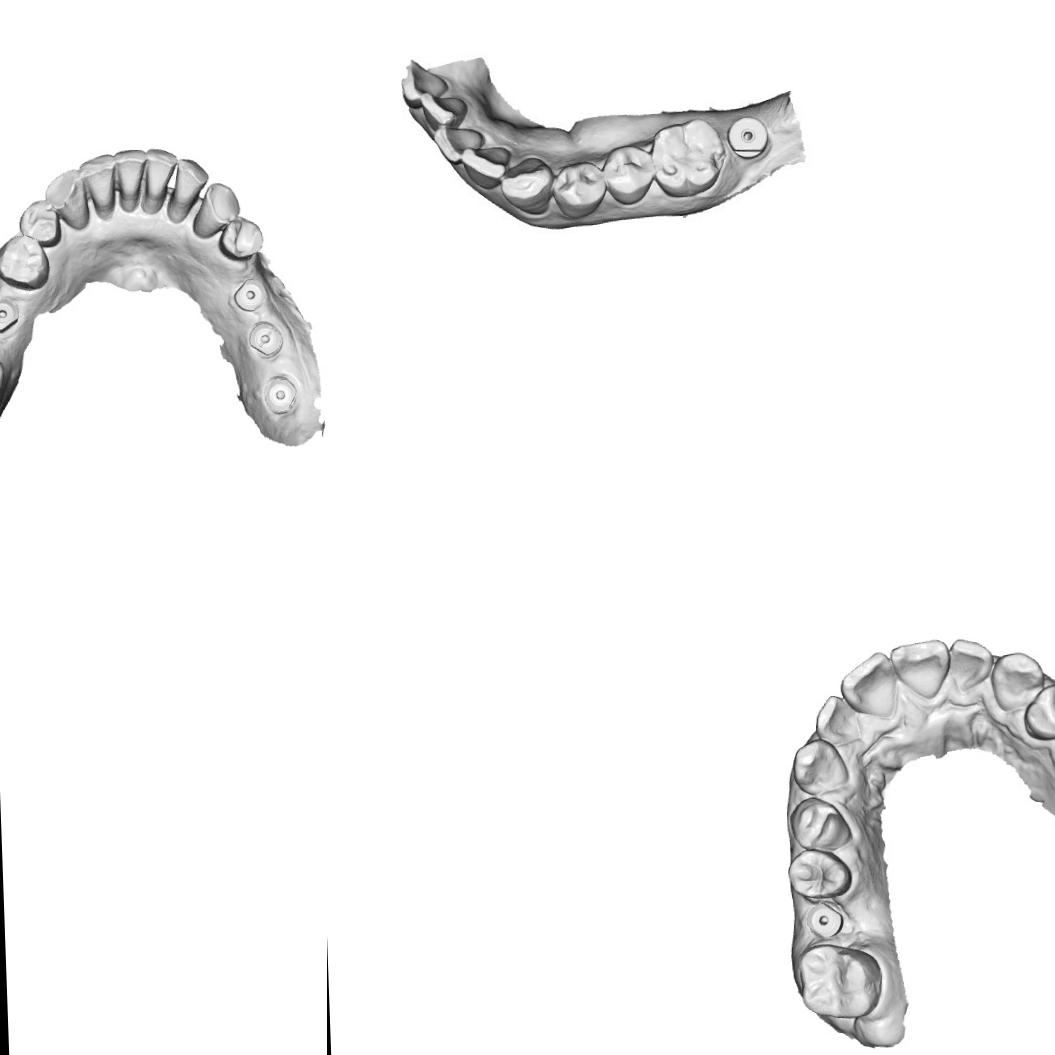canine: (987, 648, 1046, 715), (789, 737, 851, 797), (41, 167, 91, 232), (190, 180, 243, 240), (500, 158, 556, 212)
implant: (728, 116, 770, 160), (262, 374, 300, 417), (802, 900, 845, 938), (230, 276, 266, 313), (0, 296, 20, 334)
implant_minus: (245, 318, 286, 359)
incisor: (835, 650, 900, 718), (886, 634, 950, 702), (944, 637, 994, 692), (811, 693, 863, 744), (78, 152, 119, 212), (138, 146, 180, 202), (416, 87, 471, 127), (170, 156, 210, 210), (112, 146, 148, 201), (463, 147, 506, 187), (435, 126, 481, 160)
molar: (792, 942, 883, 1021), (649, 121, 718, 198)
premolar: (785, 795, 854, 855), (788, 848, 854, 900), (0, 232, 54, 293), (606, 146, 655, 204), (556, 161, 606, 214), (217, 213, 266, 263), (17, 198, 63, 248), (1021, 682, 1055, 741)
